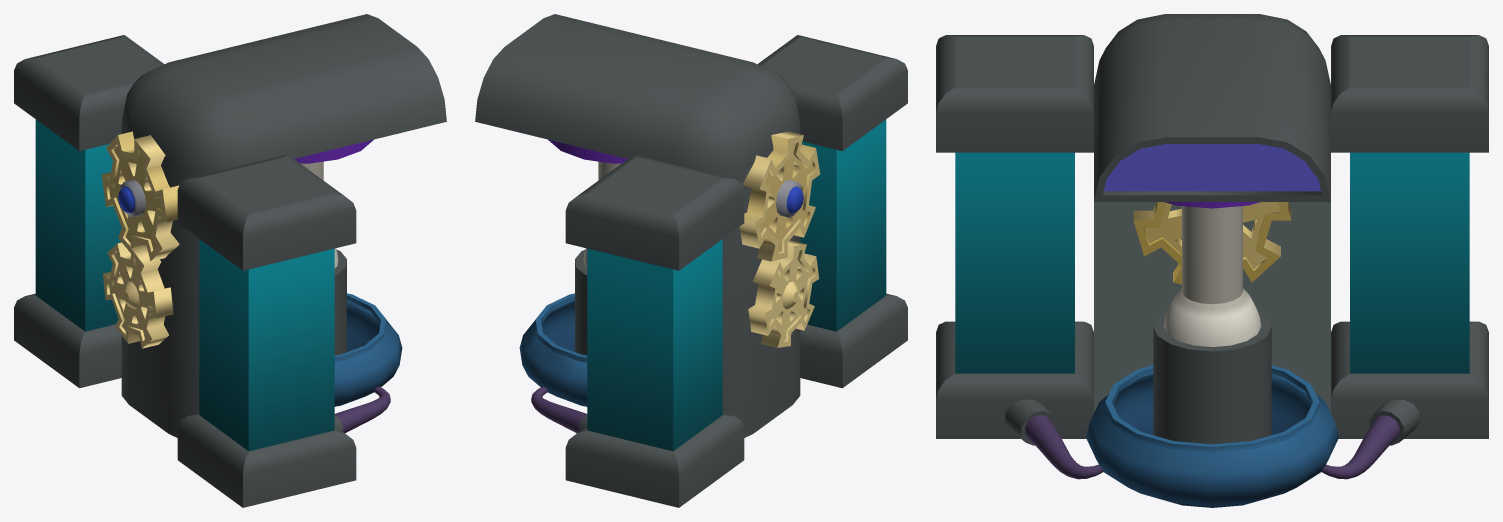
File: MachineBounce.fbx
3 renders of one model, left to right at view 1: azimuth 30°, elevation 25°; view 2: azimuth 150°, elevation 25°; view 3: azimuth 270°, elevation 25°, orthographic. The views are drawn at different scales.
Parts seen in each view (by area): view 1: Cube, Machine, Circle.002, BézierCurve, Circle.003, EngineBounce; view 2: Cube, Machine, Circle.002, BézierCurve, Circle.003, EngineBounce; view 3: Cube, Machine, BézierCurve, EngineBounce, Circle.004.
Boxes of the visible parts, <box> form: Cube: <box>14,35,356,507</box>; Machine: <box>121,14,446,437</box>; Circle.002: <box>101,131,179,261</box>; BézierCurve: <box>334,293,402,433</box>; Circle.003: <box>102,242,173,348</box>; EngineBounce: <box>300,161,346,355</box>; Cube: <box>565,35,907,507</box>; Machine: <box>475,14,800,437</box>; Circle.002: <box>739,131,820,261</box>; BézierCurve: <box>519,293,587,433</box>; Circle.003: <box>748,240,819,347</box>; EngineBounce: <box>575,161,621,355</box>; Cube: <box>936,35,1488,438</box>; Machine: <box>1094,14,1330,412</box>; BézierCurve: <box>1005,365,1419,507</box>; EngineBounce: <box>1153,206,1271,444</box>; Circle.004: <box>1133,202,1291,284</box>.
Size of the model in its own units: 487 by 553 by 700.
Materials: 3 (3 with a texture image).
